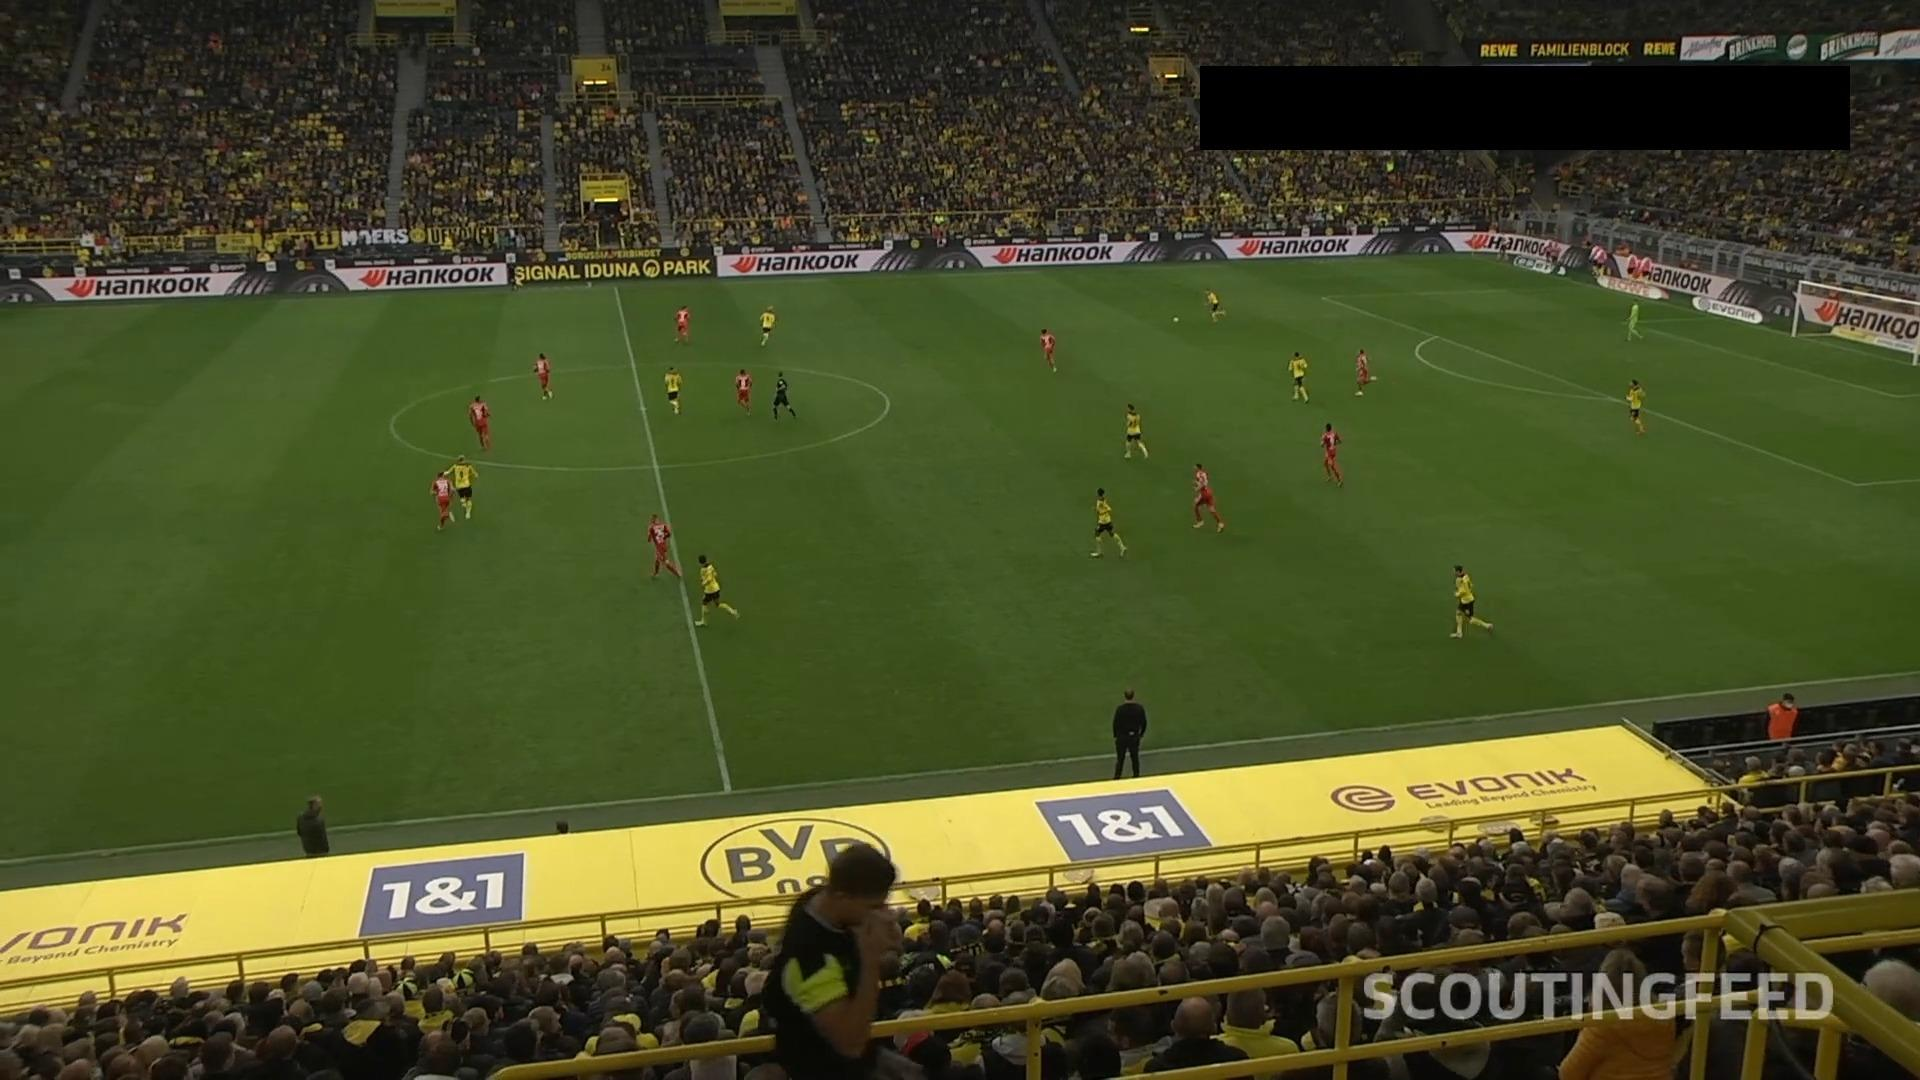ball: (1171, 315, 1180, 324)
